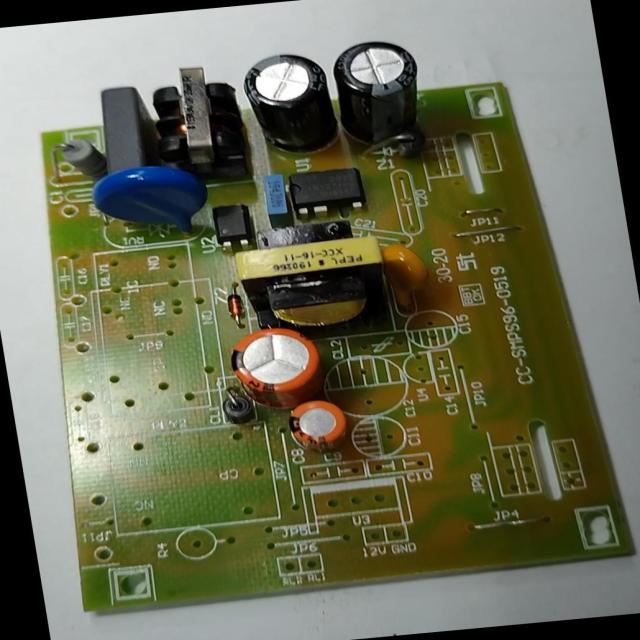Cap1: (224, 323, 329, 411)
Cap2: (281, 398, 353, 456)
Cap3: (237, 49, 341, 157)
Cap4: (327, 38, 429, 143)
MOSFET: (282, 162, 368, 216)
Mov: (86, 162, 213, 234)
Resistor: (55, 134, 106, 179)
Transformer: (225, 216, 397, 340), (142, 64, 249, 178)
